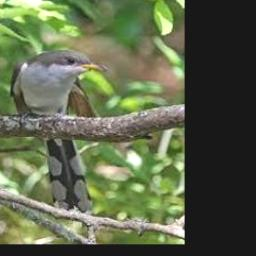Cuckoo: (10, 49, 108, 214)
